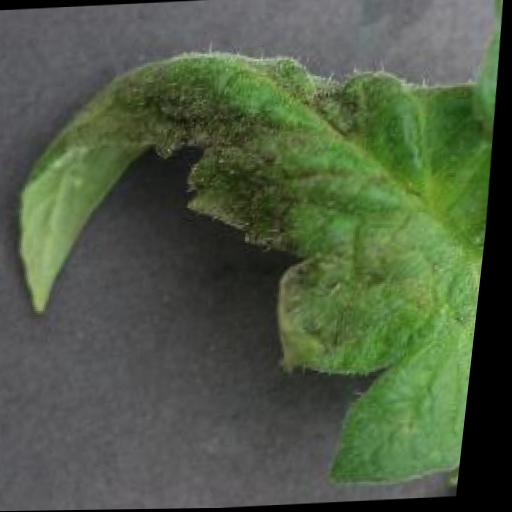Late Blight: (0, 39, 508, 499)
